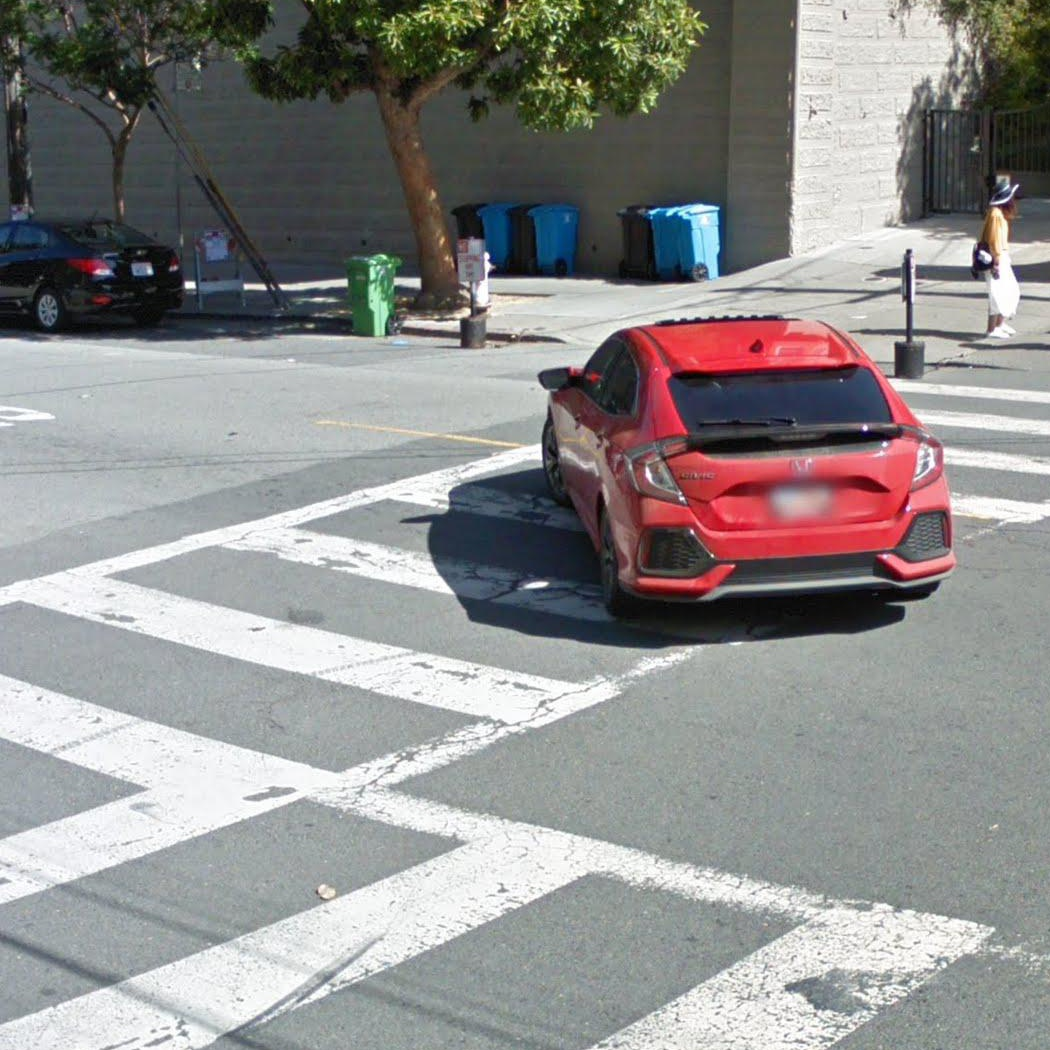No Parking Anytime: (454, 237, 487, 283)
